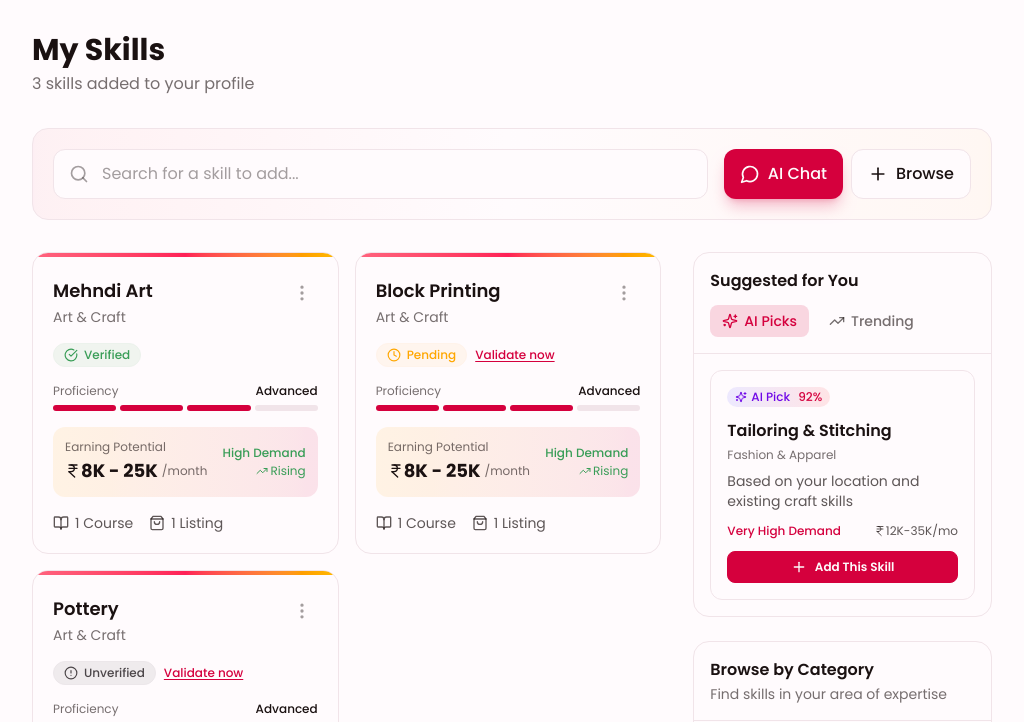
Scenario: CategoryBrowser in populated state › opens CategoryBrowser when Browse button is clicked
Click the button "Browse". click: (911, 174)
box: [851, 149, 971, 199]
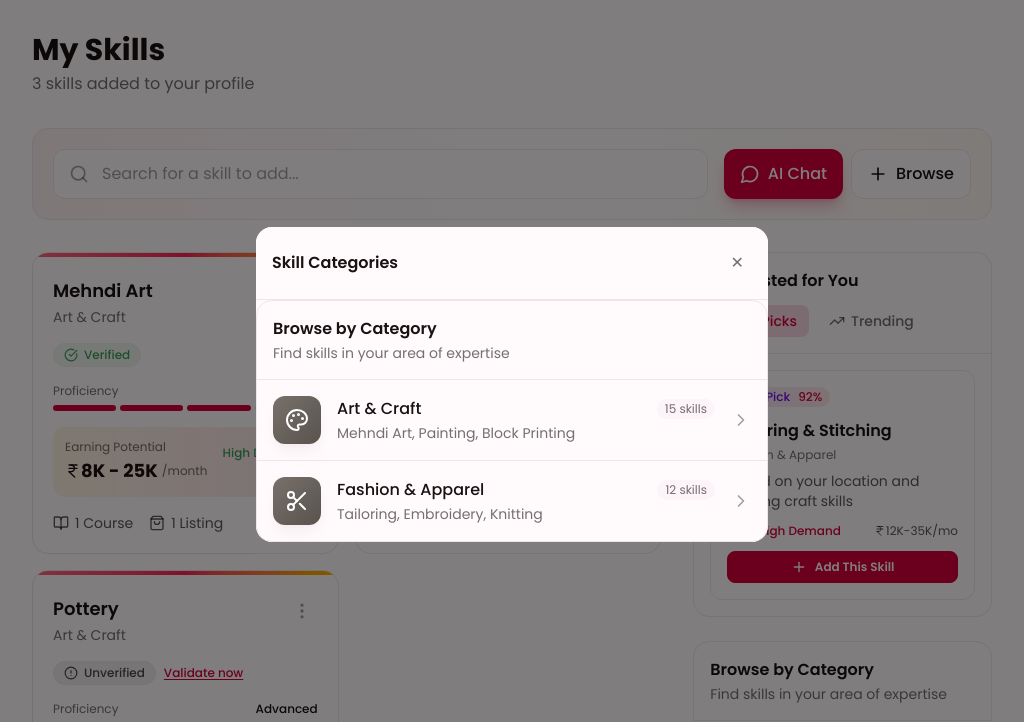
Now the heading "Skill Categories" is shown, box [272, 250, 398, 274]
